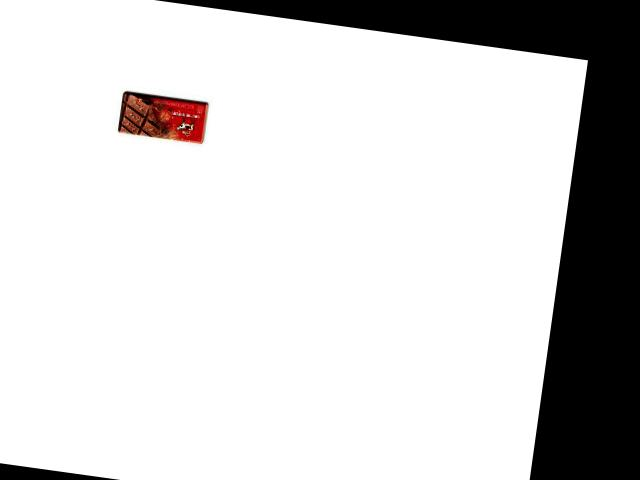chocolate: (115, 89, 209, 146)
